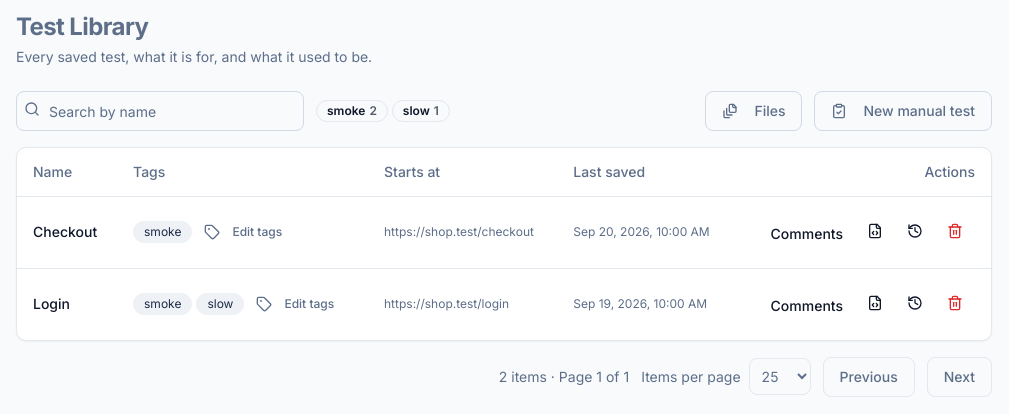
Test: TestLibraryPage › narrows by every selected tag, not by any of them
Expected: the text "Checkout" is shown, [17, 196, 117, 268]
Click the button "smoke 2": x=352, y=111 [316, 100, 388, 122]
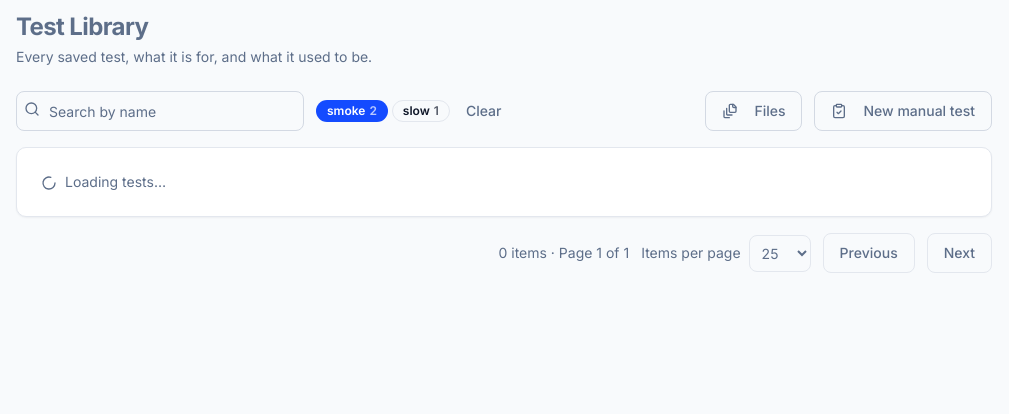
Click the button "slow 1": x=421, y=111 [392, 100, 450, 122]
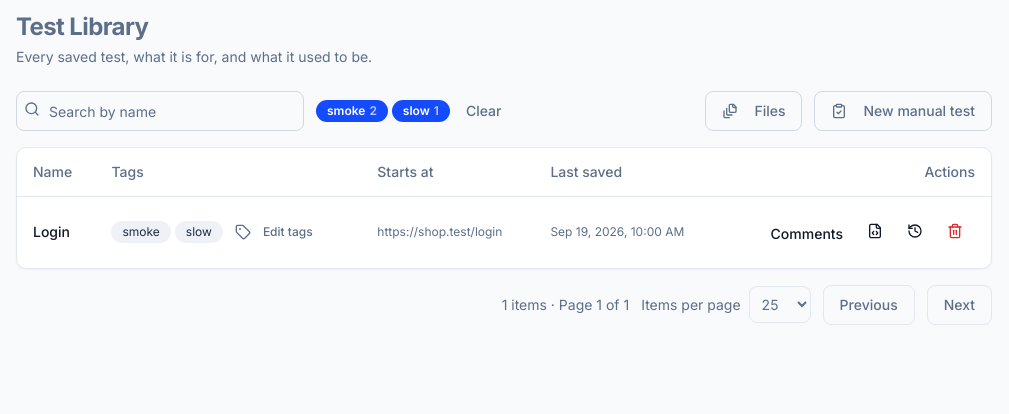
Expected: the text "Checkout" is not shown
Now the text "Login" is shown, box [17, 196, 96, 268]
